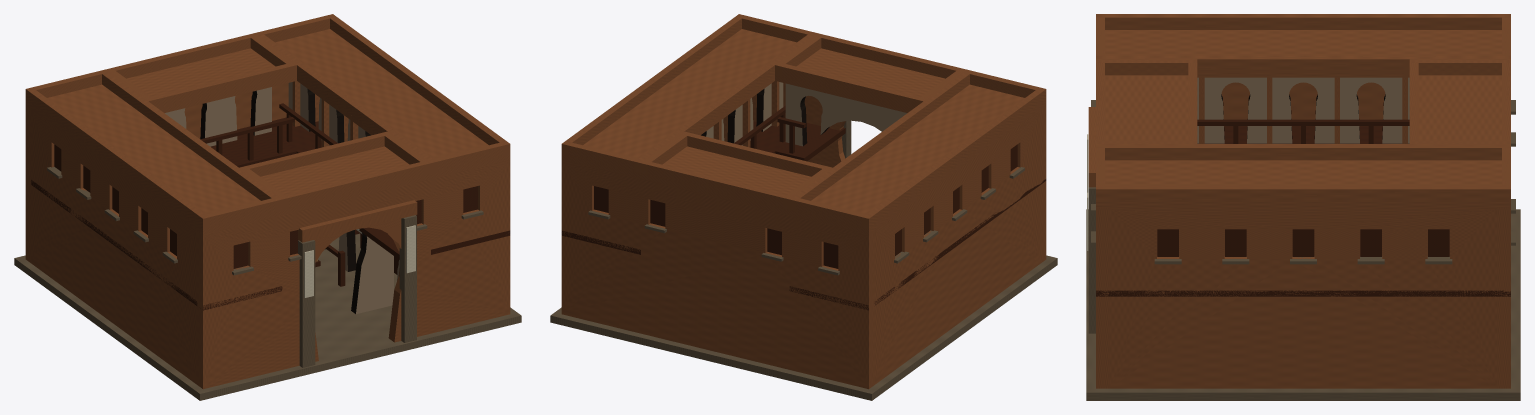
The model's file is Berber_Funduq_Age2.fbx.
The picture shows the model from 3 angles, left to right: view 1: azimuth 30°, elevation 25°; view 2: azimuth 150°, elevation 25°; view 3: azimuth 270°, elevation 25°; orthographic projection. The views are drawn at different scales.
Parts seen in each view (by area): view 1: south_outer_wall, west_outer_wall, foundation, west_roof, east_roof, south_roof, north_roof, west_roof_parapet, west_roof_parapet.001, east_roof_parapet.001, north_outer_wall, south_ground_arcade (+26 smaller); view 2: north_outer_wall, west_outer_wall, west_roof, east_roof, foundation, north_roof, south_roof, west_roof_parapet, south_merchant_rooms, west_roof_parapet.001, east_roof_parapet.001, south_outer_wall (+16 smaller); view 3: east_outer_wall, east_roof, west_roof, foundation, west_merchant_room_front, east_roof_parapet.001, east_roof_parapet, west_roof_parapet, north_roof, south_roof, west_roof_parapet.001, east_gallery_floor (+20 smaller).
Boxes of the visible parts, bbox=[...] form: south_outer_wall: bbox=[197, 159, 510, 389]; west_outer_wall: bbox=[31, 109, 197, 384]; foundation: bbox=[14, 233, 521, 400]; west_roof: bbox=[25, 84, 282, 234]; east_roof: bbox=[275, 29, 510, 178]; south_roof: bbox=[260, 146, 430, 214]; north_roof: bbox=[126, 48, 296, 112]; west_roof_parapet: bbox=[25, 87, 209, 229]; west_roof_parapet.001: bbox=[98, 69, 282, 211]; east_roof_parapet.001: bbox=[326, 14, 510, 155]; north_outer_wall: bbox=[25, 83, 288, 262]; south_ground_arcade: bbox=[351, 233, 393, 314]; north_outer_wall: bbox=[561, 159, 874, 389]; west_outer_wall: bbox=[874, 109, 1040, 384]; west_roof: bbox=[789, 84, 1046, 234]; east_roof: bbox=[561, 29, 796, 178]; foundation: bbox=[550, 255, 1057, 400]; north_roof: bbox=[641, 146, 811, 214]; south_roof: bbox=[775, 48, 945, 112]; west_roof_parapet: bbox=[862, 87, 1046, 229]; south_merchant_rooms: bbox=[785, 83, 906, 146]; west_roof_parapet.001: bbox=[789, 69, 973, 211]; east_roof_parapet.001: bbox=[561, 14, 745, 155]; south_outer_wall: bbox=[783, 83, 1046, 262]; east_outer_wall: bbox=[1109, 207, 1497, 388]; east_roof: bbox=[1096, 160, 1510, 207]; west_roof: bbox=[1105, 30, 1501, 77]; foundation: bbox=[1086, 209, 1520, 400]; west_merchant_room_front: bbox=[1197, 77, 1409, 143]; east_roof_parapet.001: bbox=[1096, 185, 1510, 201]; east_roof_parapet: bbox=[1096, 144, 1510, 160]; west_roof_parapet: bbox=[1096, 14, 1510, 29]; north_roof: bbox=[1418, 75, 1501, 140]; south_roof: bbox=[1105, 75, 1188, 140]; west_roof_parapet.001: bbox=[1096, 55, 1510, 71]; east_gallery_floor: bbox=[1096, 290, 1510, 296].
Size of the model in its own units: 770 by 406 by 770.
6 materials, 6 textured.
